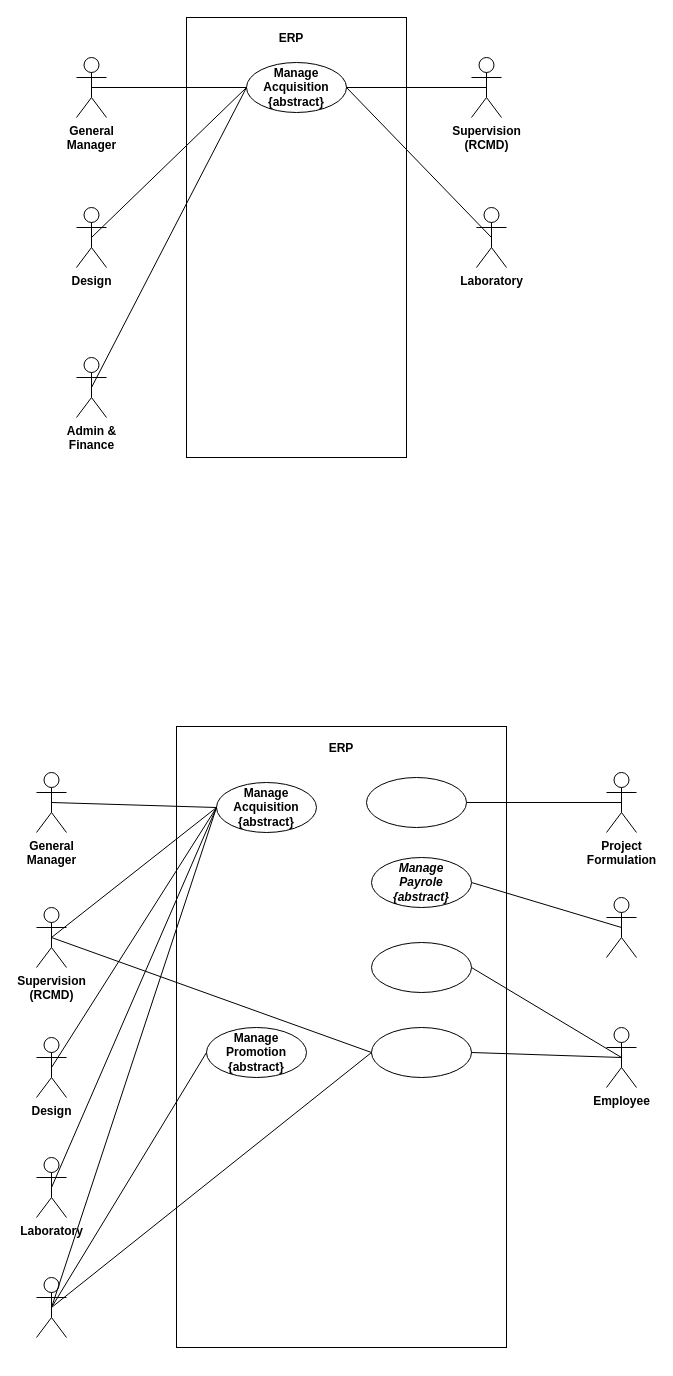
Image size: 673x1376. Some labels were removed from this diagram. The box of each missing label's shape, as (x1, y1, x2, y2) in pixels:
Finance: (606, 896, 636, 958)
HR: (36, 1276, 66, 1338)
Manage Attendance {abstract}: (370, 942, 472, 992)
Manage Bidding {abstract}: (366, 776, 466, 828)
Manage Vacancy {abstract}: (370, 1026, 472, 1078)
